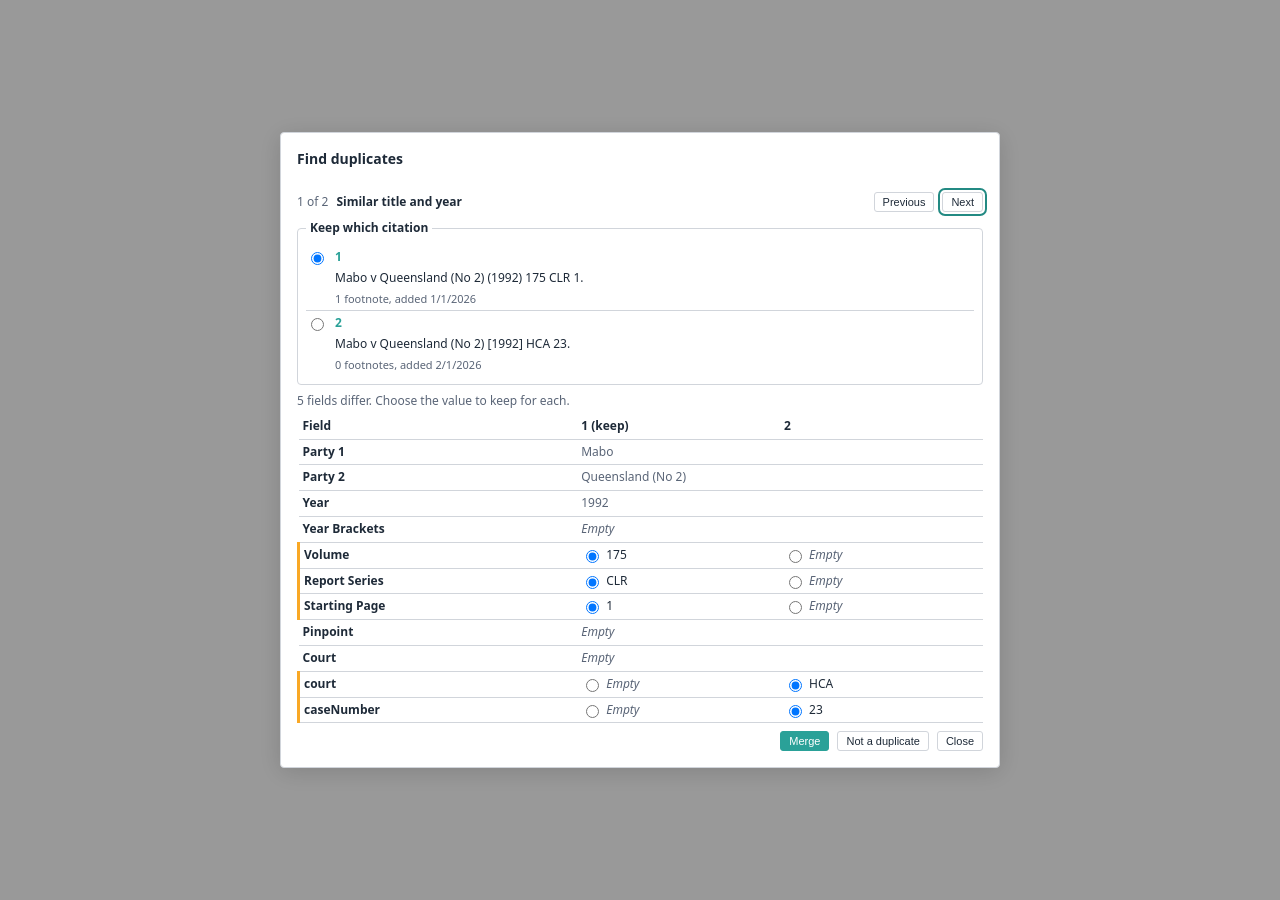
it: DuplicatesDialog (ENP-003) › with two clusters, Merge advances and announces; Previous and Next move between them
Expected: the text "1 of 2" is shown, [297,194,328,211]
Click the button with aria-label "Next duplicate group" at (963,202), box [942,192,983,212]
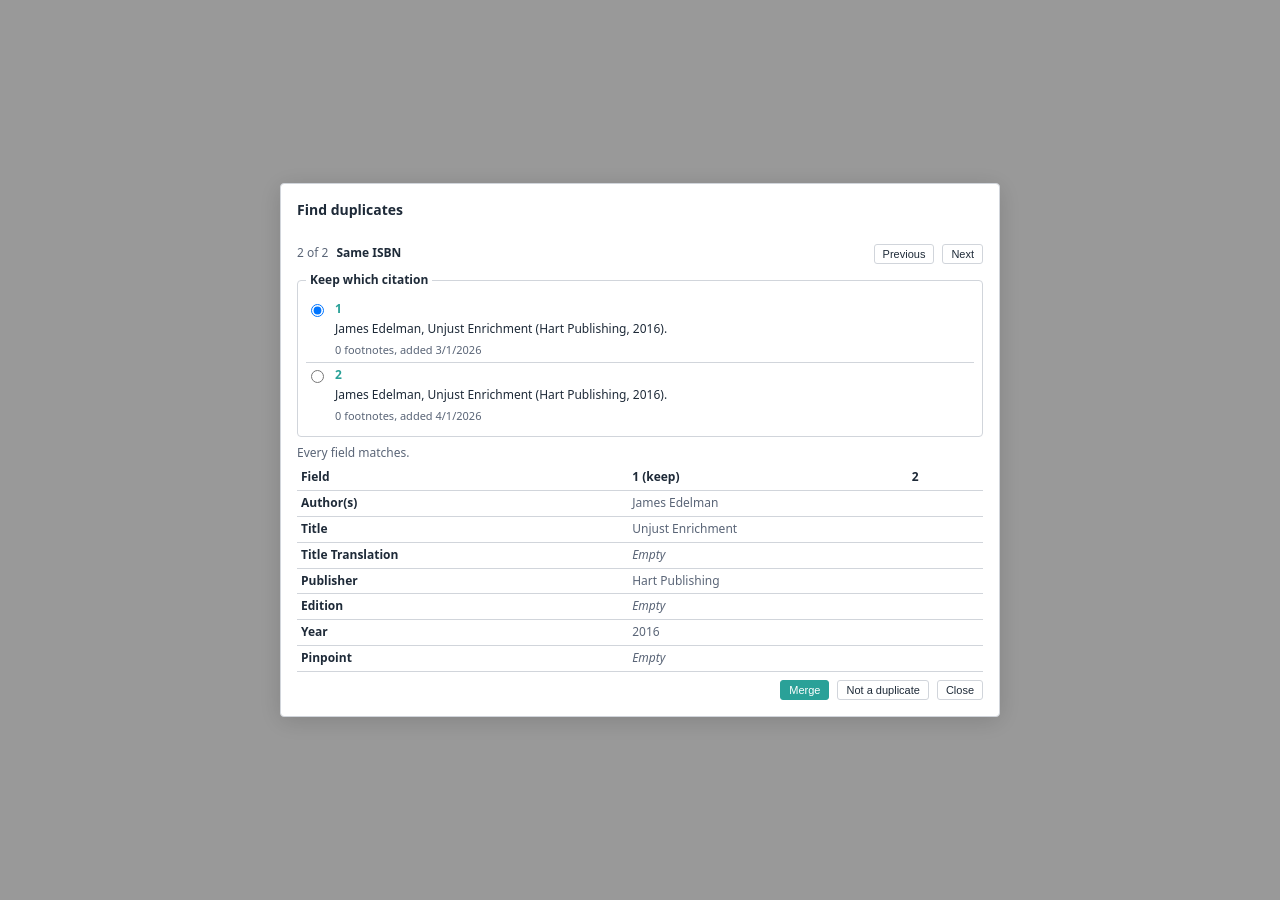
Result: the text "2 of 2" is shown at [297,245,328,262]
Result: the text "Same ISBN" is shown at [336,244,401,261]
Click the button with aria-label "Previous duplicate group" at (904,254), box [874,244,934,264]
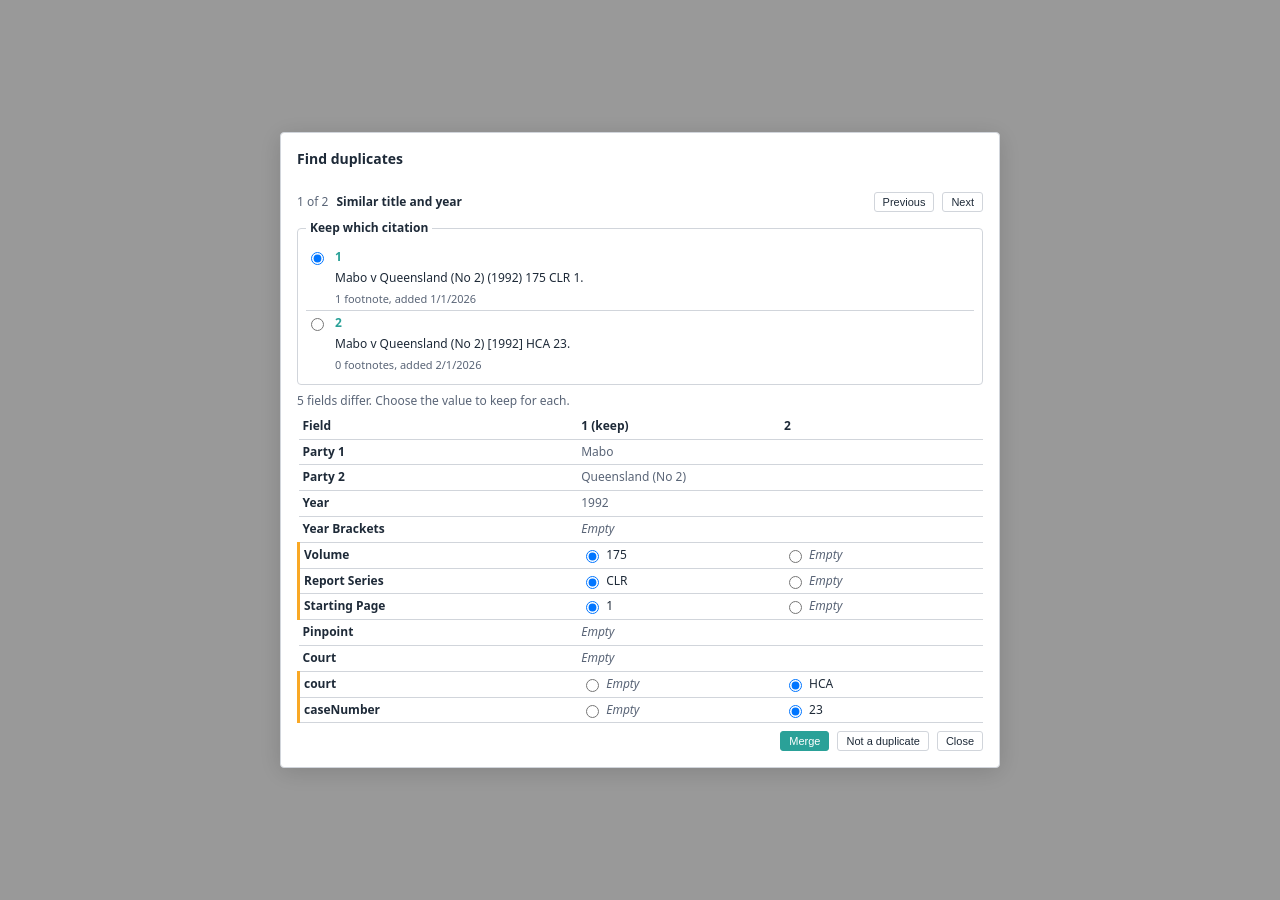
Result: the text "1 of 2" is shown at [297,194,328,211]
Click the button "Merge" at (805,741), box [780,731,830,751]
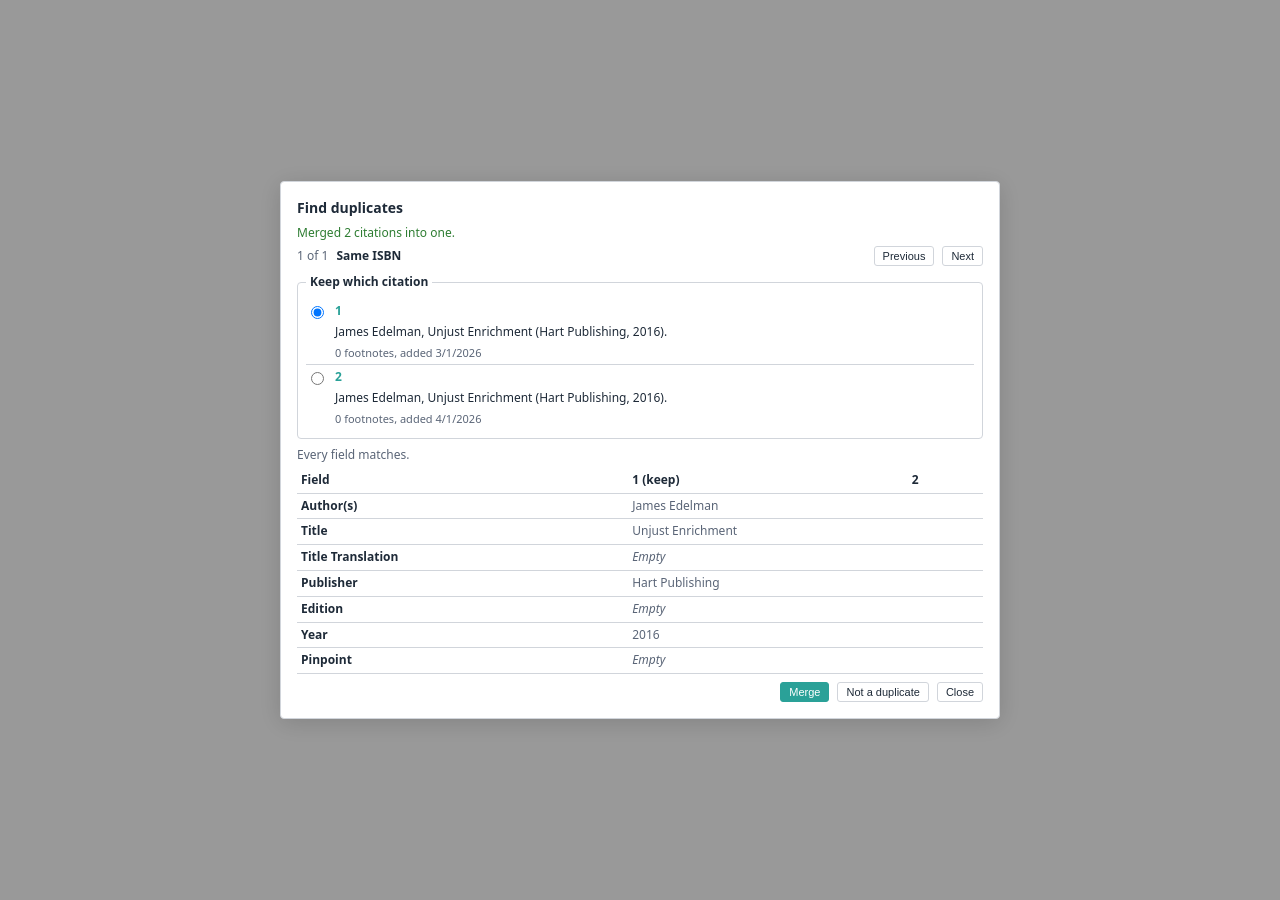
Result: the text "Merged 2 citations into one." is shown at [297,224,455,241]
Result: the text "1 of 1" is shown at [297,248,328,265]
Result: the text "Same ISBN" is shown at [336,247,401,264]
